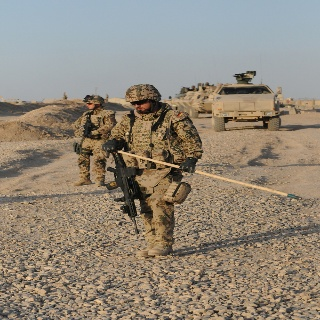rifle: (106, 147, 150, 236)
